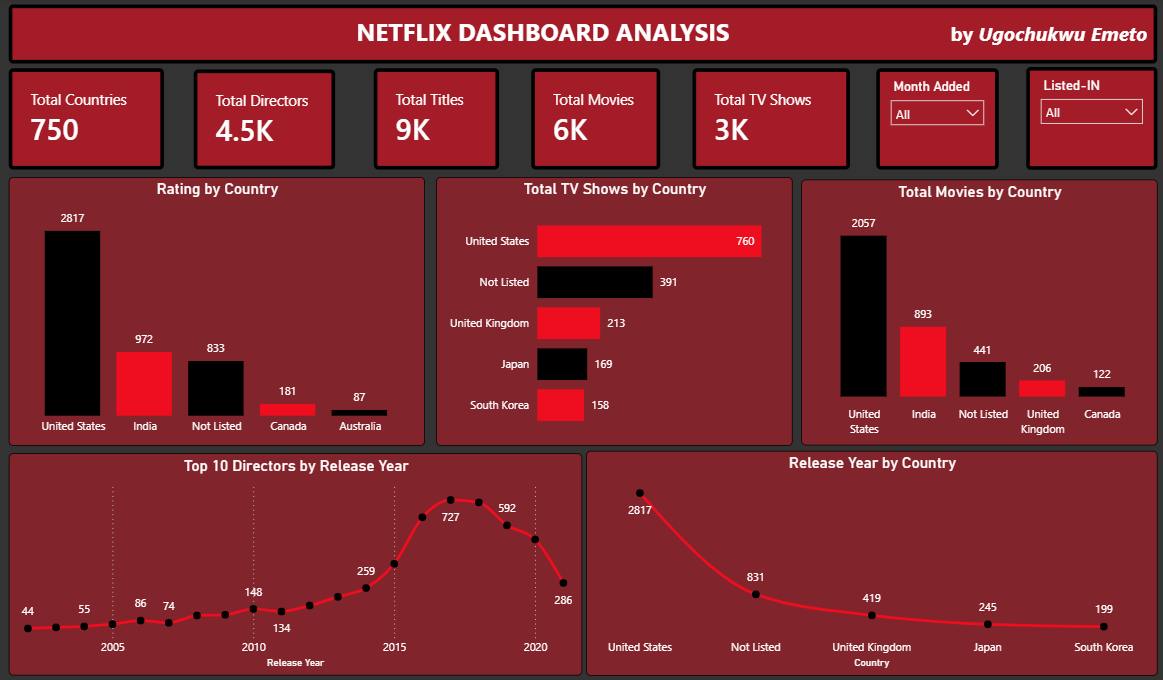

The dashboard page shown, as its layout file describes it:
{"tool":"powerbi","page":{"name":"Page 1","canvas":[1280,750],"ordinal":0},"visuals":[{"type":"cardVisual","fields":{"Data":["netflix_titles.Total Titles"]},"box":[410.3,78.2,137.2,111.1],"z":0},{"type":"cardVisual","fields":{"Data":["netflix_titles.Total Movies"]},"box":[583.2,78.2,141.3,111.1],"z":1000},{"type":"cardVisual","fields":{"Data":["netflix_titles.Total TV Shows"]},"box":[760.2,78.2,172.9,111.1],"z":2000},{"type":"cardVisual","fields":{"Data":["netflix_titles.Total Countries"]},"box":[9.6,78.2,170.2,111.1],"z":3000},{"type":"columnChart","title":"Rating by Country","fields":{"Y":["CountNonNull(netflix_titles.Rating)"],"Category":["netflix_titles.Country"]},"box":[9.6,197.6,456.9,295],"z":4000},{"type":"clusteredColumnChart","fields":{"Y":["netflix_titles.Total Movies"],"Category":["netflix_titles.Country"]},"box":[879.6,200.3,391.1,292.3],"z":5000},{"type":"lineChart","title":"Release Year by Country","fields":{"Category":["netflix_titles.Country"],"Y":["CountNonNull(netflix_titles.Release Year)"]},"box":[643.6,498.1,627.1,247],"z":6000},{"type":"cardVisual","fields":{"Data":["netflix_titles.Total Directors"]},"box":[212.7,79.6,155.1,109.8],"z":7000},{"type":"lineChart","title":"Top 10 Directors by Release Year","fields":{"Category":["netflix_titles.Release Year"],"Y":["netflix_titles.Total Directors"]},"box":[9.6,500.9,629.8,244.3],"z":8000},{"type":"slicer","fields":{"Values":["netflix_titles.Date Added.Variation.Date Hierarchy.Month"]},"box":[961.9,78.2,134.5,111.1],"z":8002},{"type":"slicer","fields":{"Values":["netflix_titles.Listed-IN.1"]},"box":[1126.6,76.8,144.1,112.5],"z":8003},{"type":"barChart","fields":{"Category":["netflix_titles.Country"],"Y":["netflix_titles.Total TV Shows"]},"box":[478.9,197.6,391.1,295],"z":8004},{"type":"textbox","box":[9.6,8.2,1261.1,64.5],"z":8005}]}

Visuals, with their boxes in screenshot pixels (x1, y1, x2, y2), scaled from the page's 1280x750 canvas onto the 1163x680 screenshot:
cardVisual - netflix_titles.Total Titles: select_region(373, 71, 497, 172)
cardVisual - netflix_titles.Total Movies: select_region(530, 71, 658, 172)
cardVisual - netflix_titles.Total TV Shows: select_region(691, 71, 848, 172)
cardVisual - netflix_titles.Total Countries: select_region(9, 71, 163, 172)
"Rating by Country" columnChart: select_region(9, 179, 424, 447)
clusteredColumnChart - netflix_titles.Total Movies x netflix_titles.Country: select_region(799, 182, 1155, 447)
"Release Year by Country" lineChart: select_region(585, 452, 1155, 676)
cardVisual - netflix_titles.Total Directors: select_region(193, 72, 334, 172)
"Top 10 Directors by Release Year" lineChart: select_region(9, 454, 581, 676)
slicer - netflix_titles.Date Added.Variation.Date Hierarchy.Month: select_region(874, 71, 996, 172)
slicer - netflix_titles.Listed-IN.1: select_region(1024, 70, 1155, 172)
barChart - netflix_titles.Country x netflix_titles.Total TV Shows: select_region(435, 179, 790, 447)
textbox: select_region(9, 7, 1155, 66)
